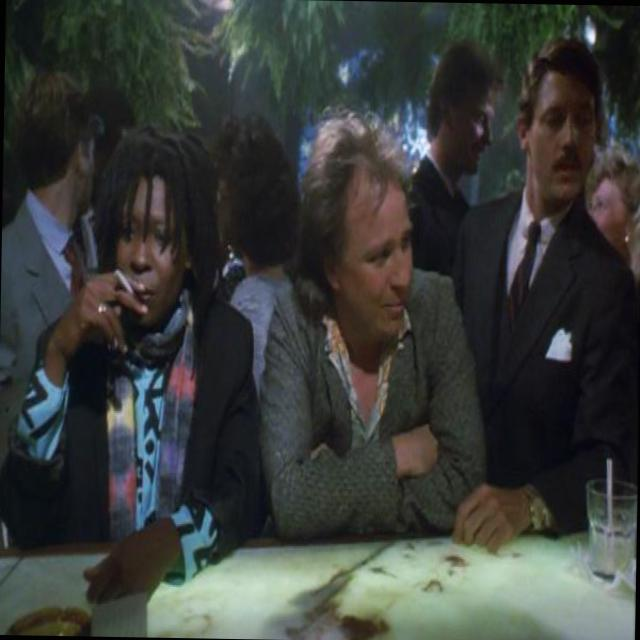smoke: (110, 257, 141, 302)
